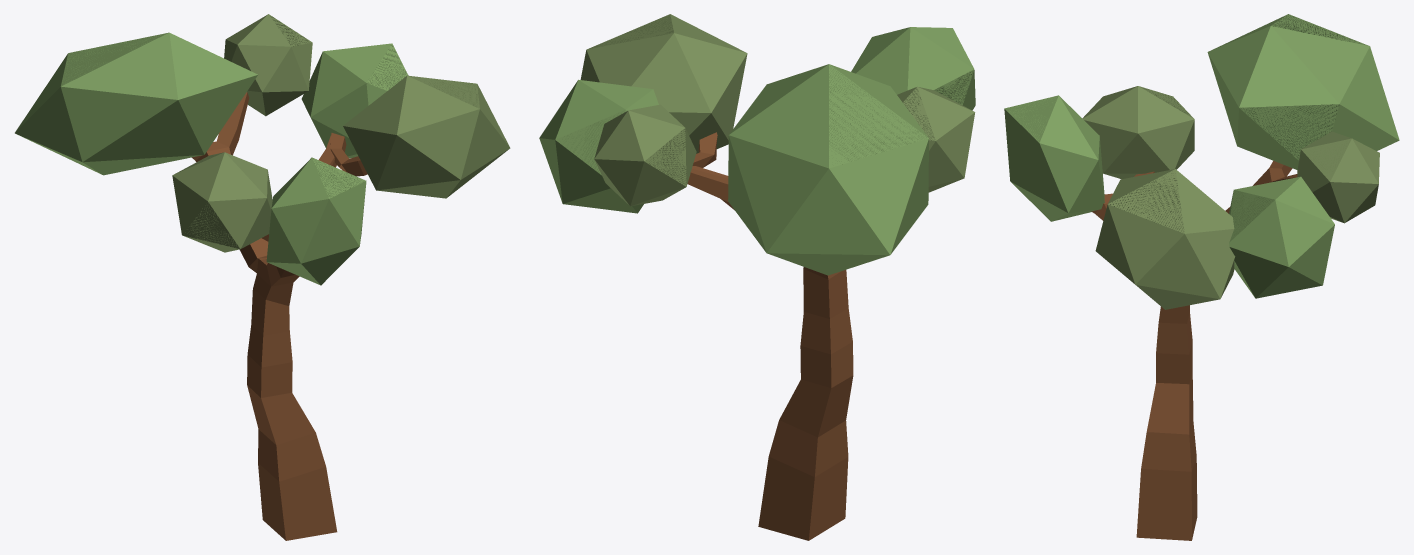
File: tree1.fbx
The picture shows the model from 3 angles, left to right: view 1: azimuth 30°, elevation 25°; view 2: azimuth 150°, elevation 25°; view 3: azimuth 270°, elevation 25°; orthographic projection. The views are drawn at different scales.
Visible parts, largest first — view 1: Icosphere.005, Cube, Icosphere.002, Icosphere.001, Icosphere, Icosphere.003, Icosphere.004; view 2: Icosphere.005, Cube, Icosphere.002, Icosphere.003, Icosphere.004, Icosphere.001, Icosphere; view 3: Icosphere.005, Icosphere.002, Cube, Icosphere.003, Icosphere.001, Icosphere, Icosphere.004.
Boxes of the visible parts, box(x1,y1,x2,y2) form: Icosphere.005: box(15, 32, 257, 175); Cube: box(192, 92, 367, 540); Icosphere.002: box(343, 75, 510, 198); Icosphere.001: box(266, 157, 366, 285); Icosphere: box(172, 152, 272, 252); Icosphere.003: box(301, 43, 408, 158); Icosphere.004: box(224, 14, 312, 116); Icosphere.005: box(728, 64, 928, 275); Cube: box(687, 132, 853, 540); Icosphere.002: box(580, 14, 747, 153); Icosphere.003: box(539, 79, 658, 213); Icosphere.004: box(594, 104, 696, 206); Icosphere.001: box(851, 27, 975, 110); Icosphere: box(897, 86, 975, 192); Icosphere.005: box(1207, 14, 1399, 169); Icosphere.002: box(1095, 169, 1235, 309); Cube: box(1091, 161, 1297, 540); Icosphere.003: box(1229, 176, 1334, 298); Icosphere.001: box(1004, 95, 1104, 221); Icosphere: box(1082, 86, 1194, 179); Icosphere.004: box(1297, 131, 1379, 223).
Size of the model in its own units: 725 by 871 by 671.
